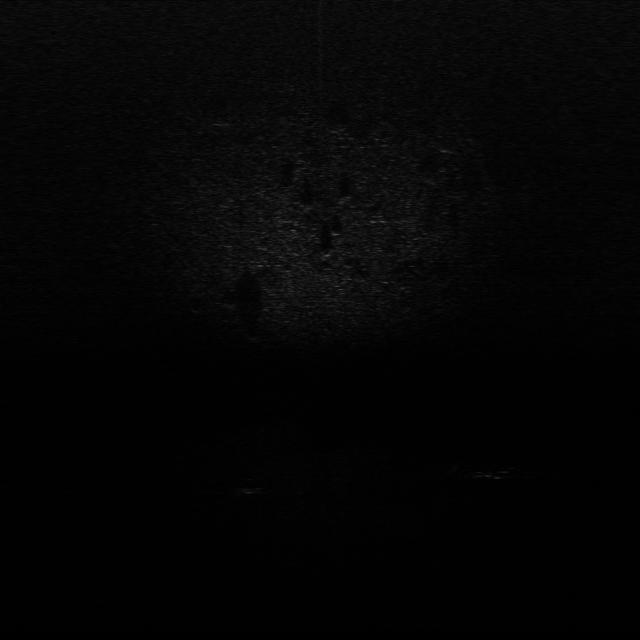ball: (232, 474, 268, 497)
human body: (440, 454, 530, 483)
